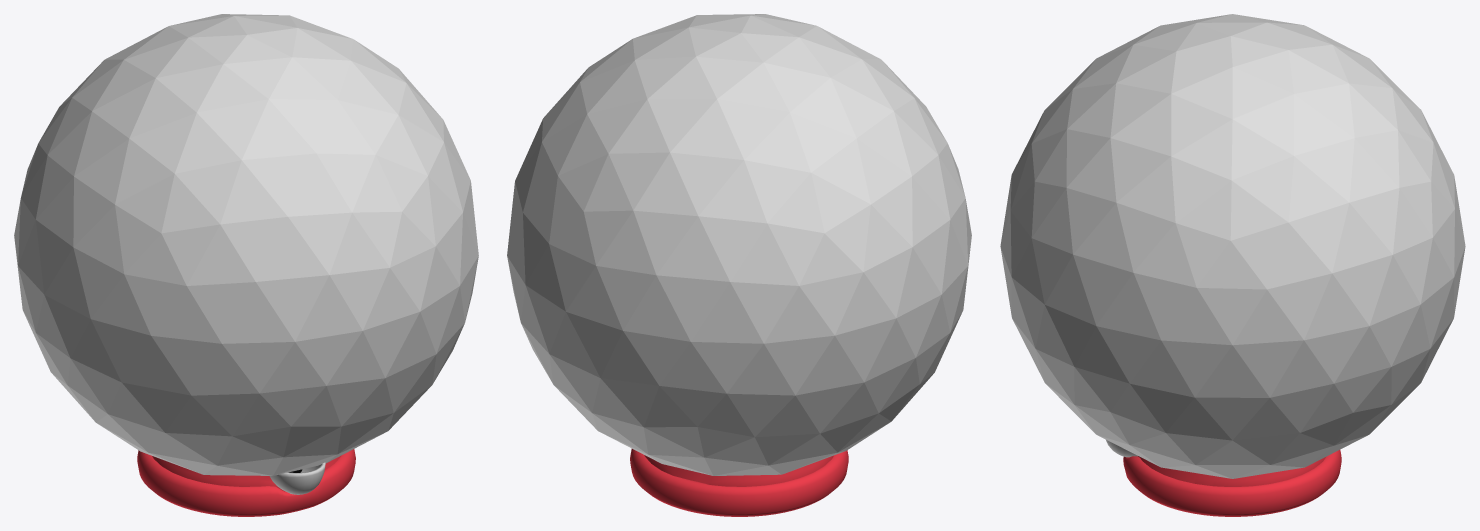
Rendered from gumball.glb.
3 views of the same model, side by side, from view 1: azimuth 30°, elevation 25°; view 2: azimuth 150°, elevation 25°; view 3: azimuth 270°, elevation 25° (orthographic).
Visible parts, largest first — view 1: Icosphere.001, Base, Body, Billboard; view 2: Icosphere.001, Base, Body; view 3: Icosphere.001, Base, Body.
Part boxes in pixels (<box>): Icosphere.001: <box>14,14,478,475</box>; Base: <box>137,449,355,516</box>; Body: <box>152,455,341,491</box>; Billboard: <box>269,462,325,494</box>; Icosphere.001: <box>507,14,971,475</box>; Base: <box>630,449,848,516</box>; Body: <box>644,455,833,486</box>; Icosphere.001: <box>1000,14,1465,478</box>; Base: <box>1123,450,1341,516</box>; Body: <box>1138,456,1325,486</box>.
Size of the model in its own units: 4.03 by 4.19 by 4.03.
